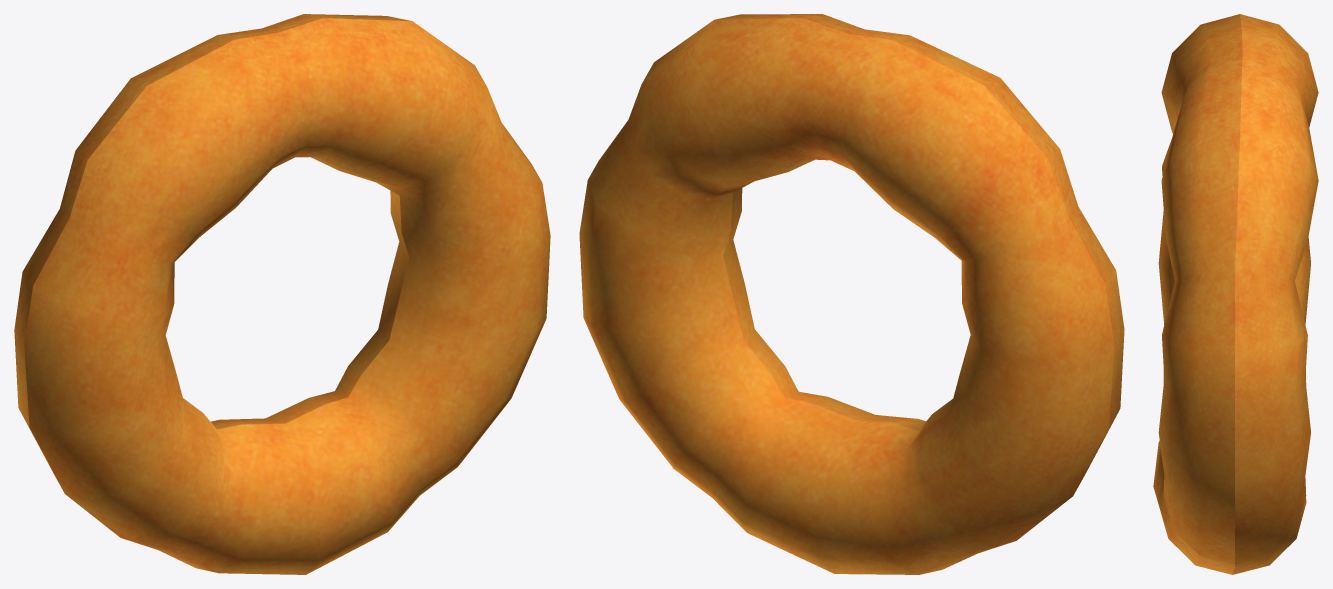
File: OnionRing_1.fbx
3 renders of one model, left to right at view 1: azimuth 30°, elevation 25°; view 2: azimuth 150°, elevation 25°; view 3: azimuth 270°, elevation 25°, orthographic. The views are drawn at different scales.
Visible parts, largest first — view 1: OnionRing_1; view 2: OnionRing_1; view 3: OnionRing_1.
Boxes of the visible parts, x1,y1,x2,y2 form: OnionRing_1: [14, 14, 550, 574]; OnionRing_1: [579, 14, 1124, 574]; OnionRing_1: [1153, 14, 1318, 574].
Size of the model in its own units: 0.0573 by 0.0569 by 0.0169.
Materials: 1 (1 with a texture image).
